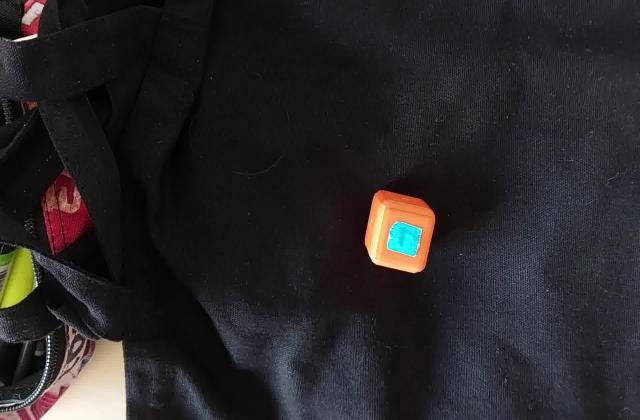blue: (396, 229, 418, 254)
sticker: (360, 186, 438, 276)
